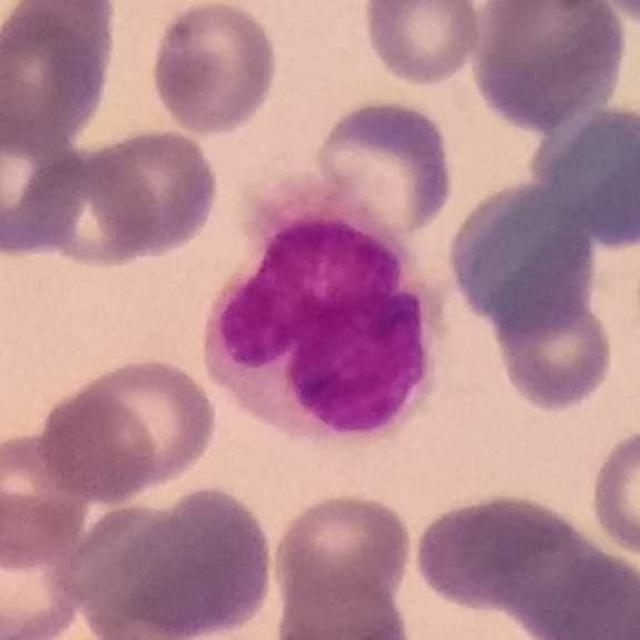mono: (202, 179, 455, 450)
